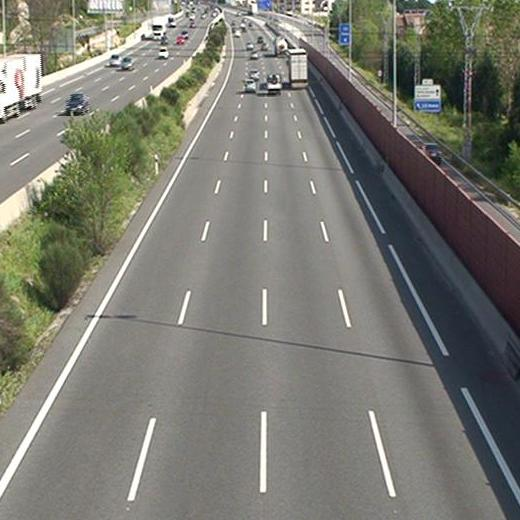car: (244, 79, 256, 92), (248, 69, 258, 79), (249, 50, 258, 59)
small-truck: (266, 74, 282, 95)
tank-truck: (274, 36, 287, 56)
truck: (287, 49, 308, 89)
